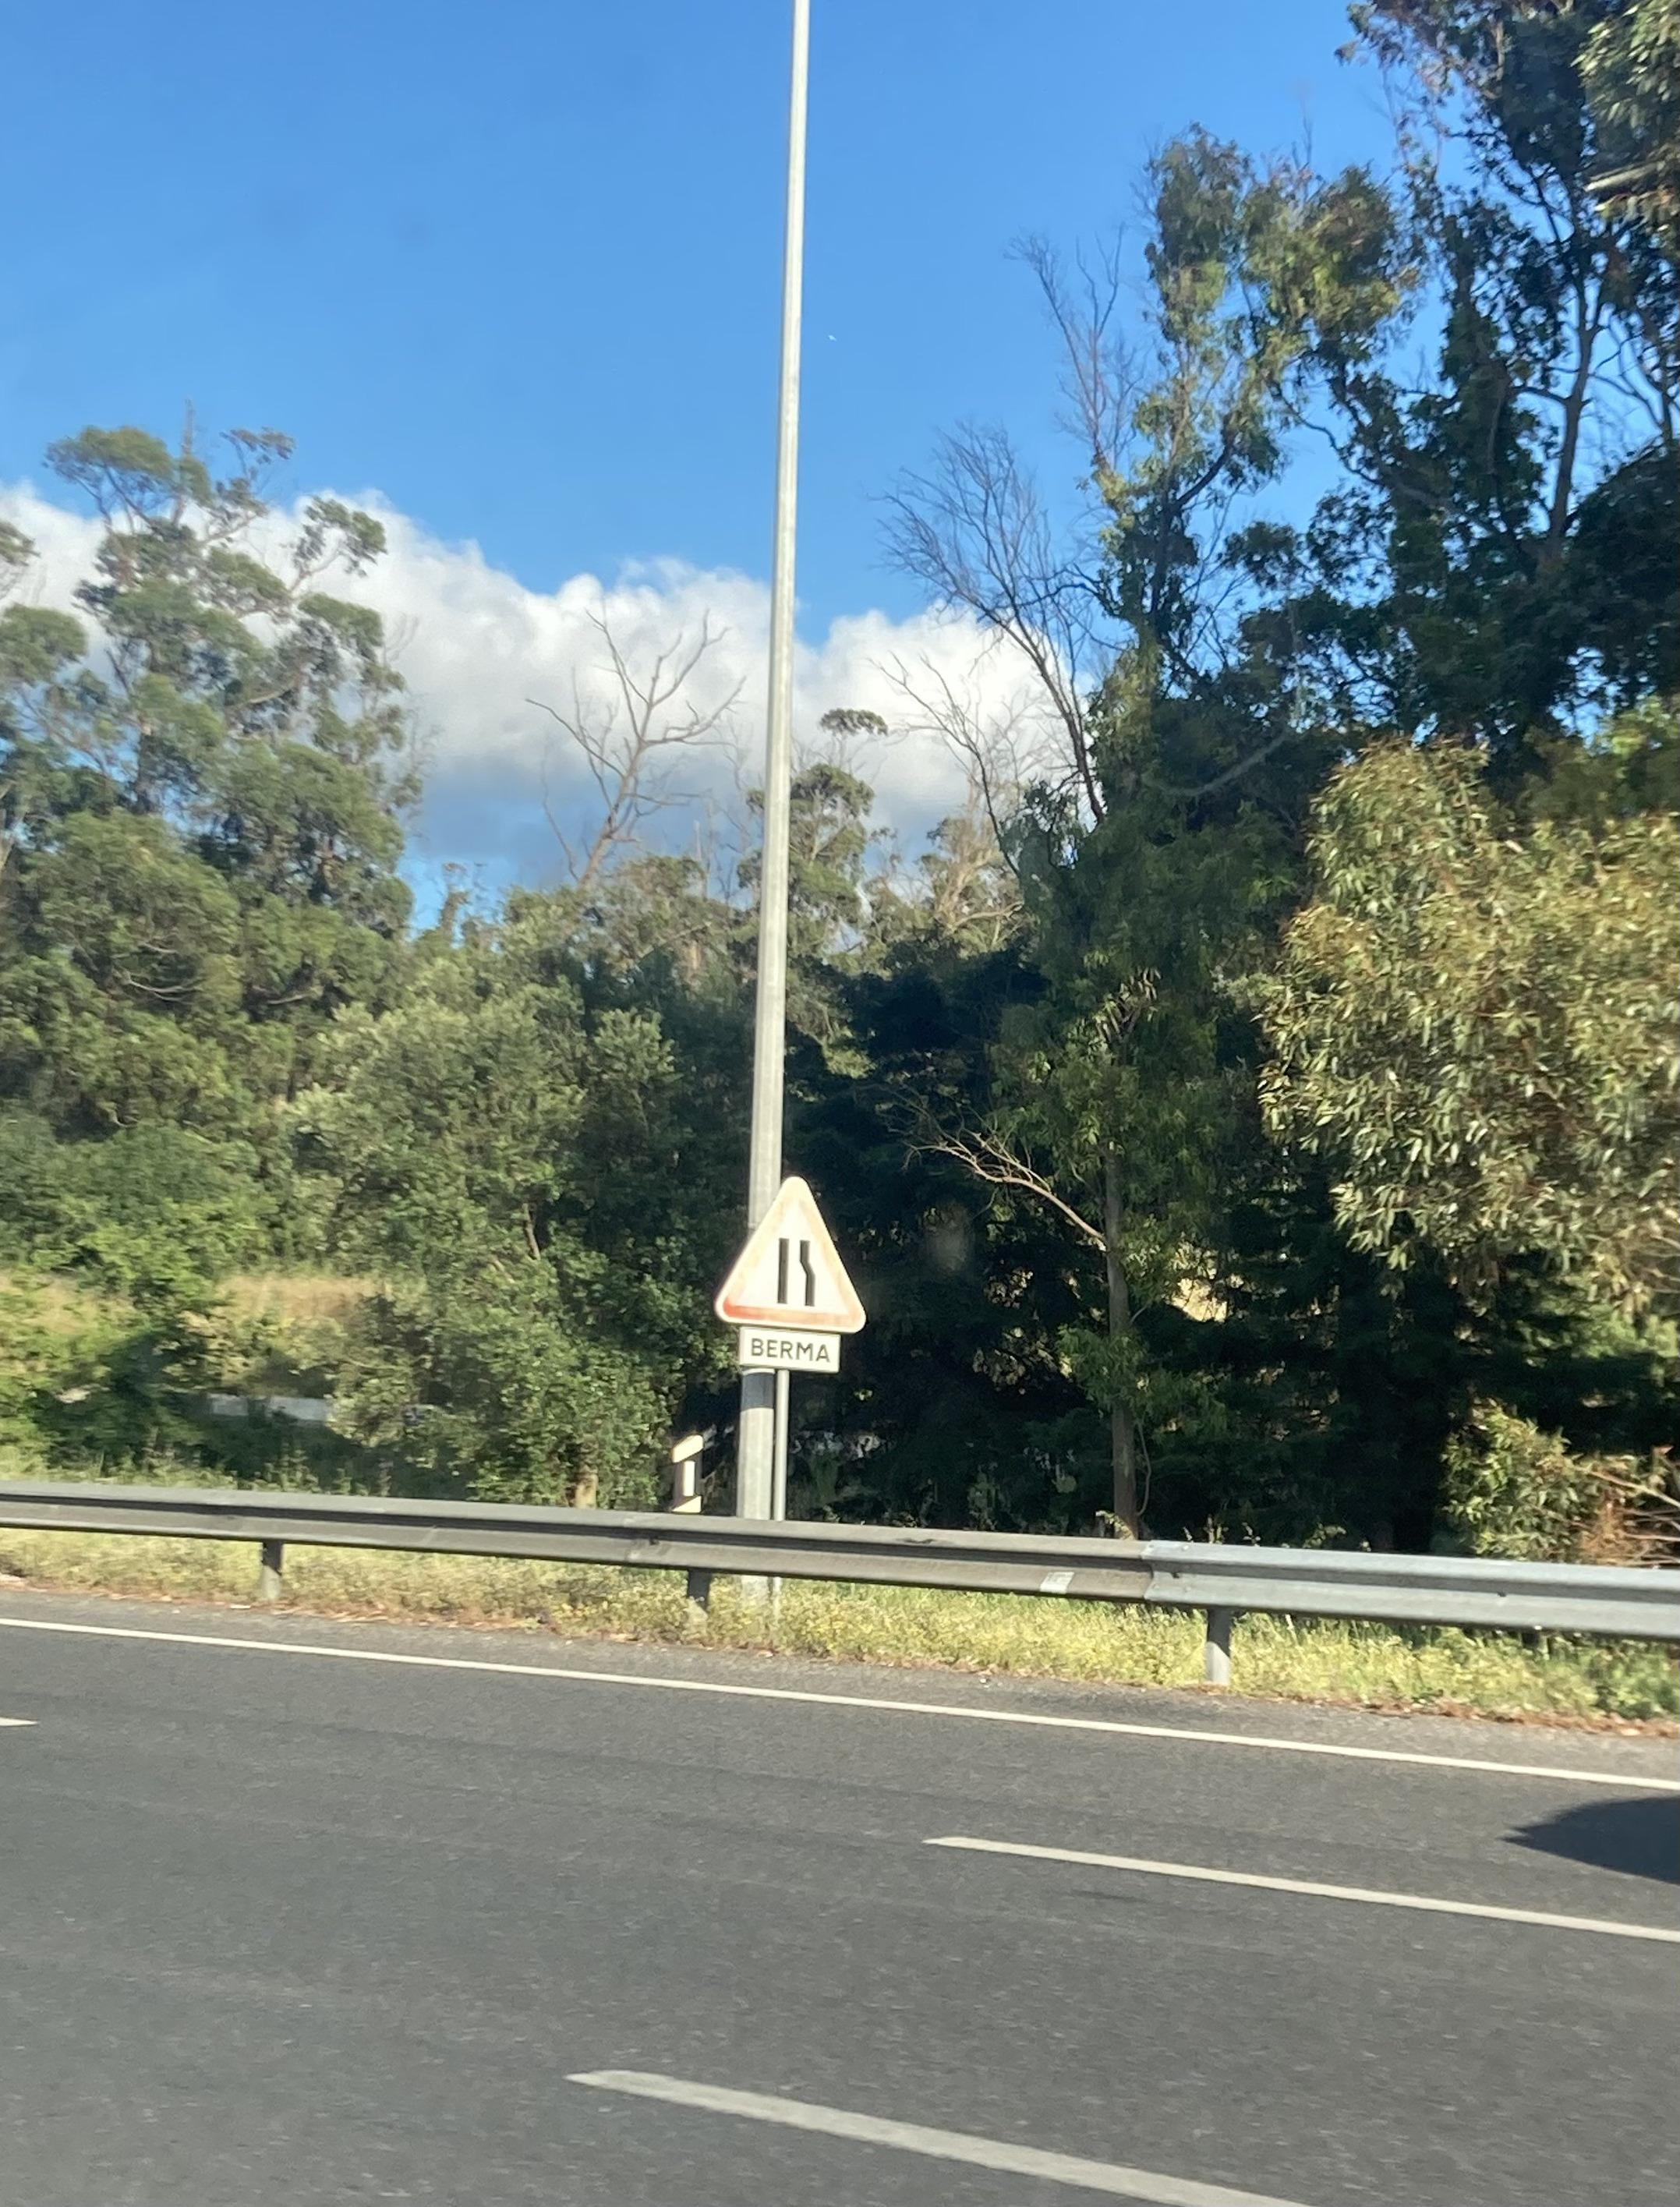passagem estreita: (683, 1180, 859, 1374)
